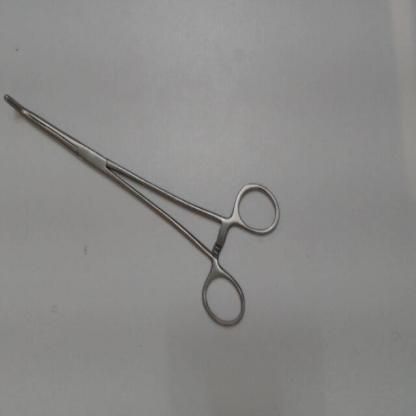Lahey Forceps: (2, 87, 287, 335)
